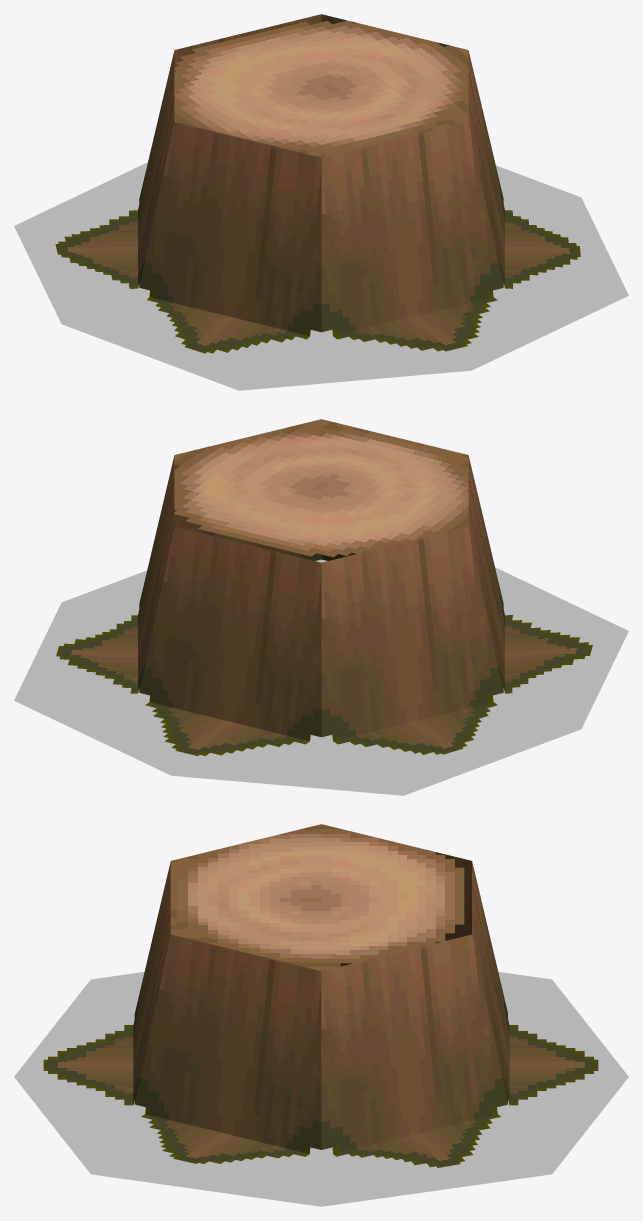
The model's file is forest_stump.obj.
The picture shows the model from 3 angles, top to bottom: view 1: azimuth 30°, elevation 25°; view 2: azimuth 150°, elevation 25°; view 3: azimuth 270°, elevation 25°; orthographic projection. The views are drawn at different scales.
Size of the model in its own units: 48 by 15.43 by 48.
